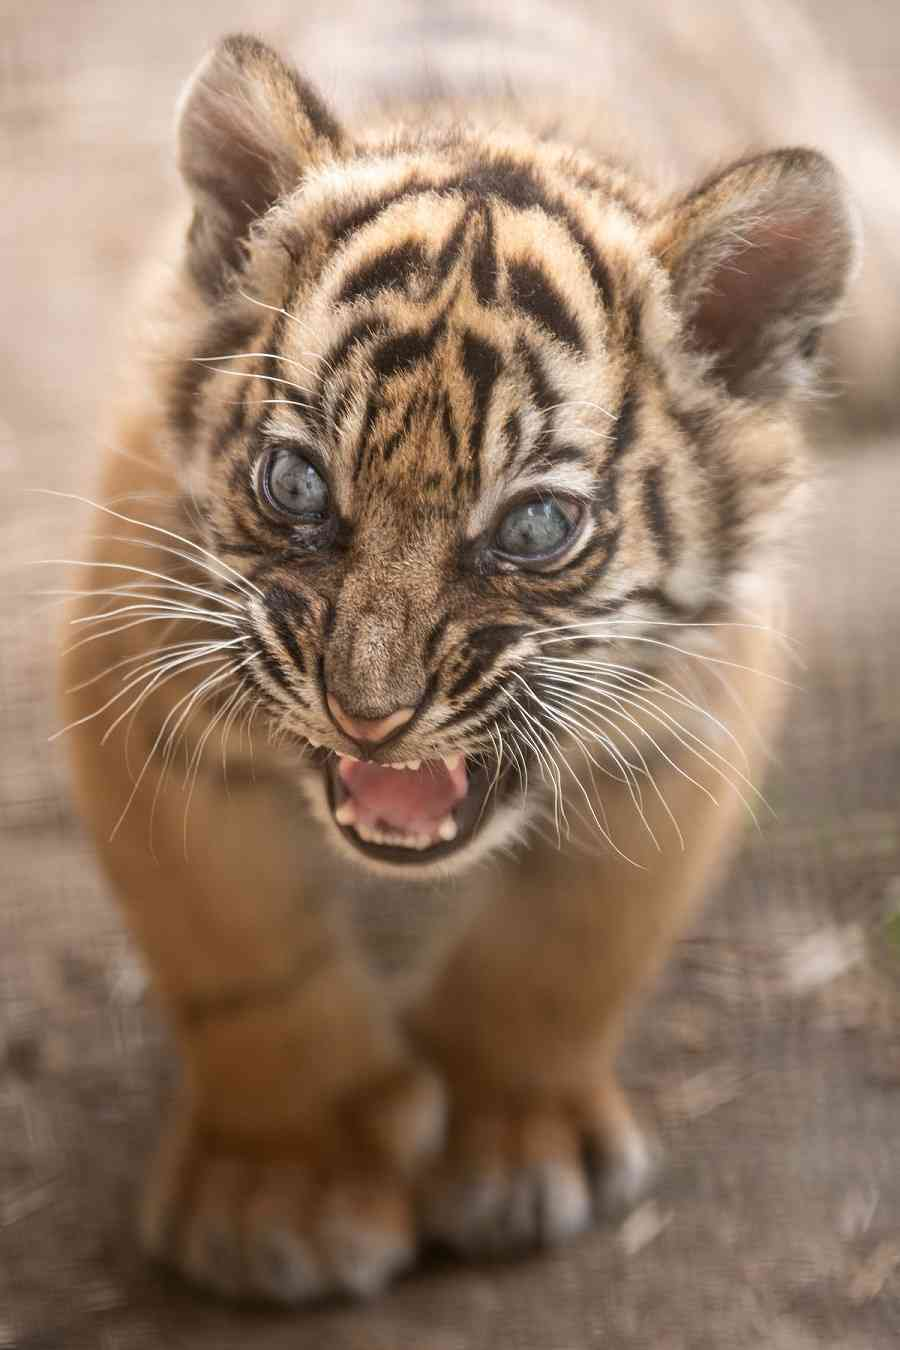Tigrew: (113, 30, 794, 1321)
